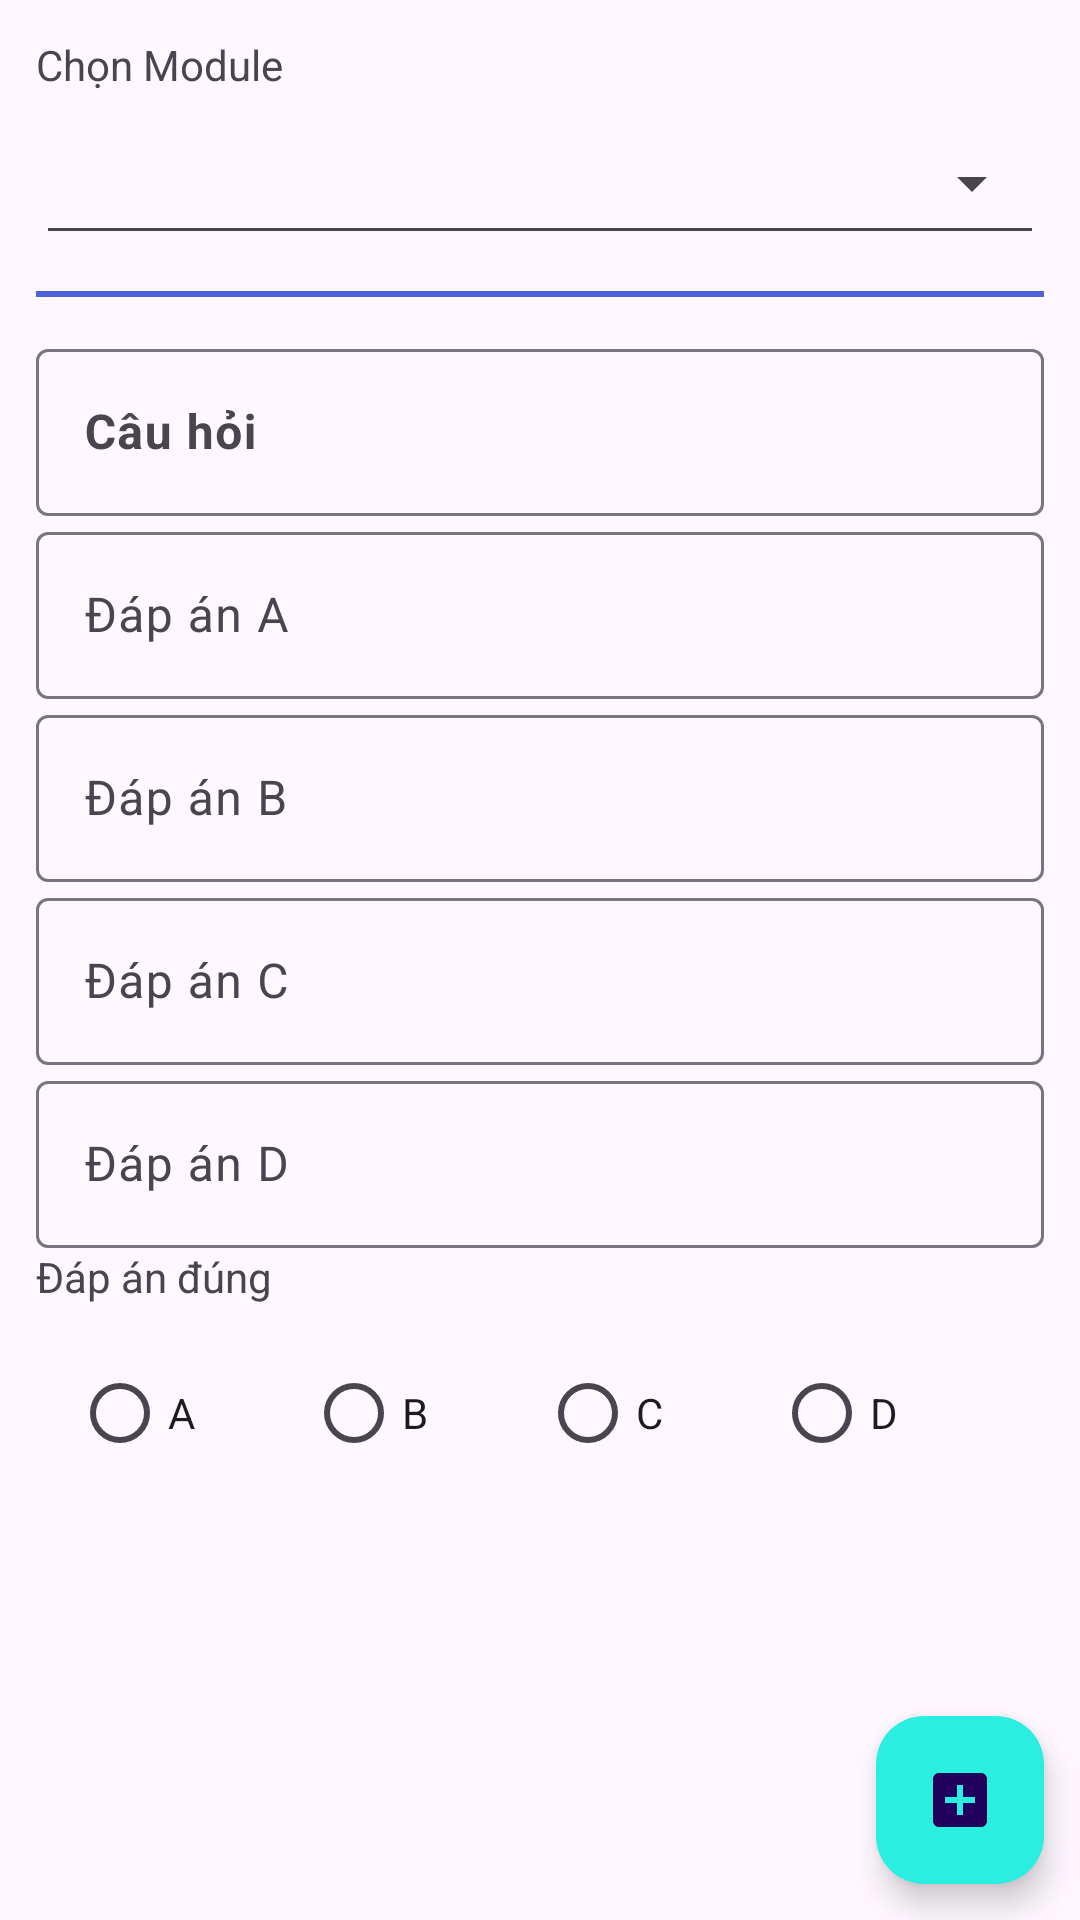

Icon bounding boxes for this 1080×1920 phone screenshot, format {"left": x1, "top": y1, "right": x2, "bottom": y2}:
add question: {"left": 876, "top": 1716, "right": 1044, "bottom": 1884}
